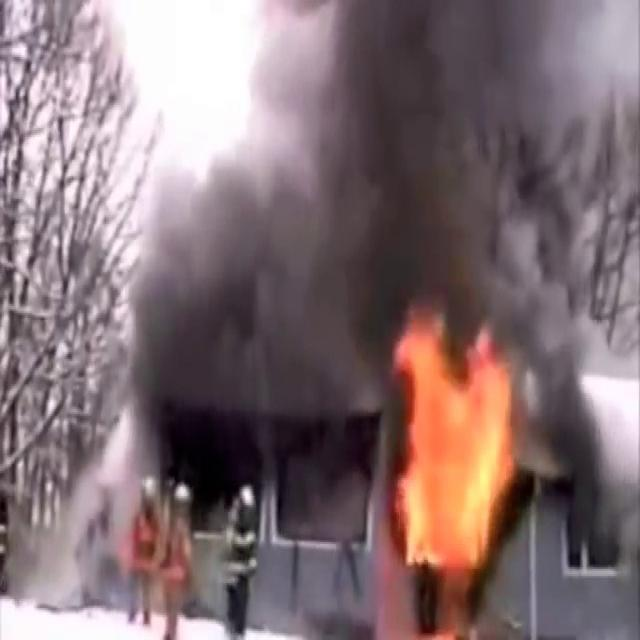Fire: (390, 266, 527, 636)
Smoke: (106, 14, 384, 460), (346, 0, 602, 353)
